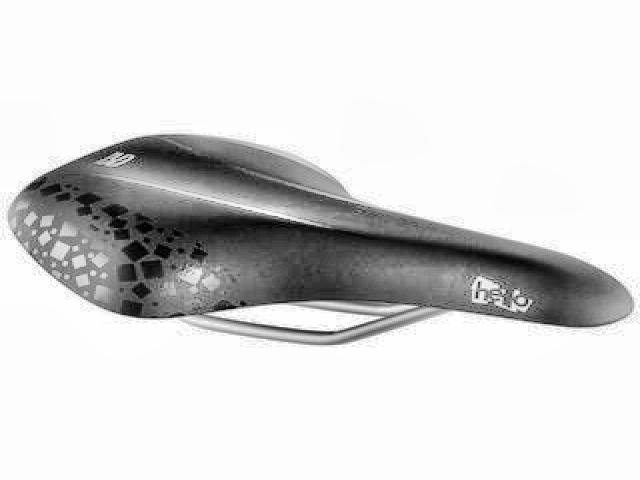saddle: (6, 129, 636, 351)
